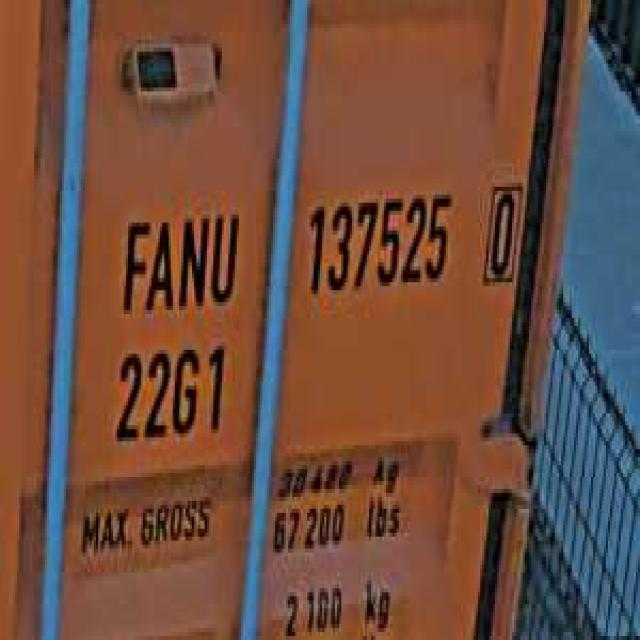dv: (478, 167, 525, 294)
owner: (111, 195, 241, 318)
serial: (298, 175, 456, 306)
size: (107, 334, 230, 453)
